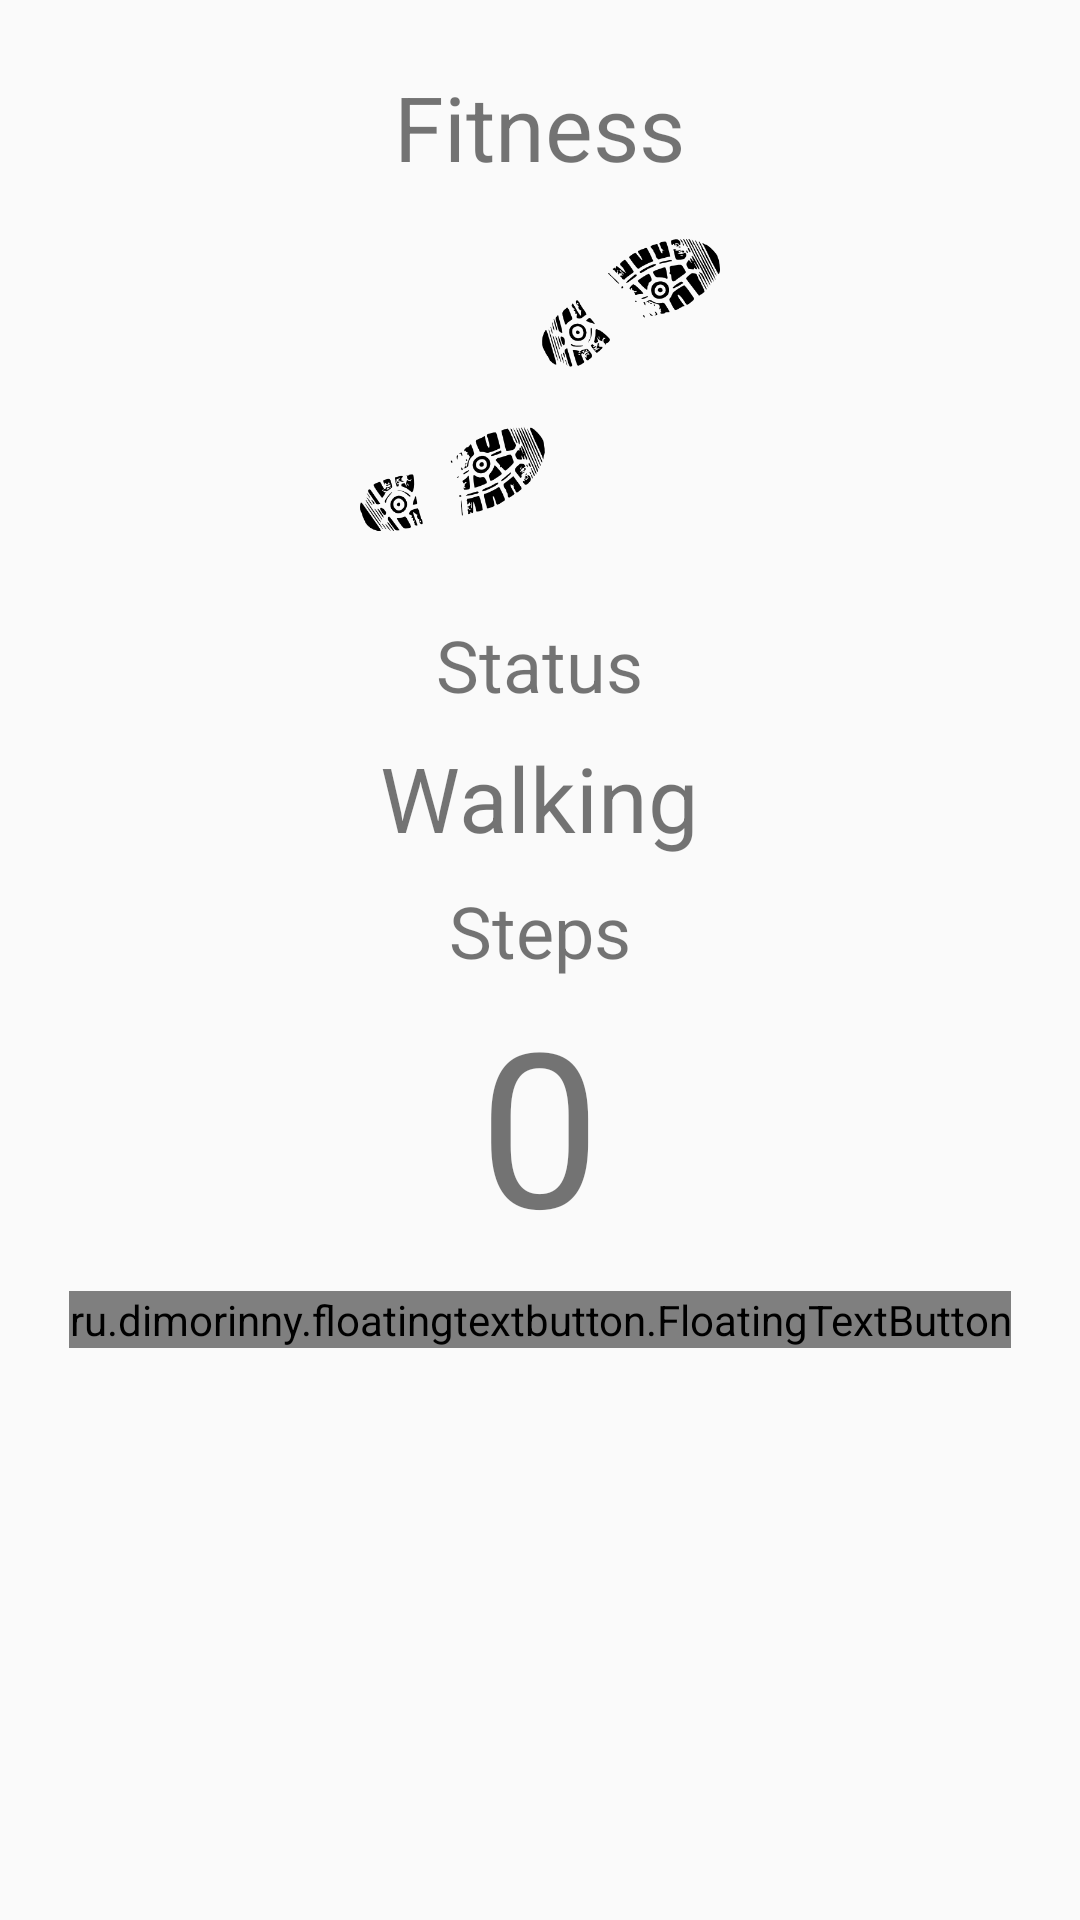

Icons on this 1080 × 1920 Android screen, each with its box as [x1=x1, y1=y1, x2=x2, y2=y2]:
footprints: [x1=360, y1=239, x2=720, y2=531]
